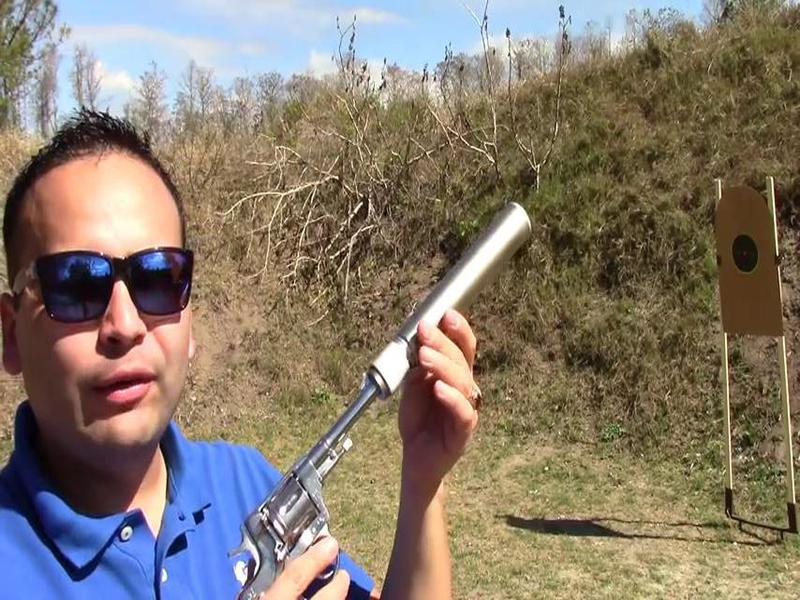Revolver: (207, 354, 397, 600)
